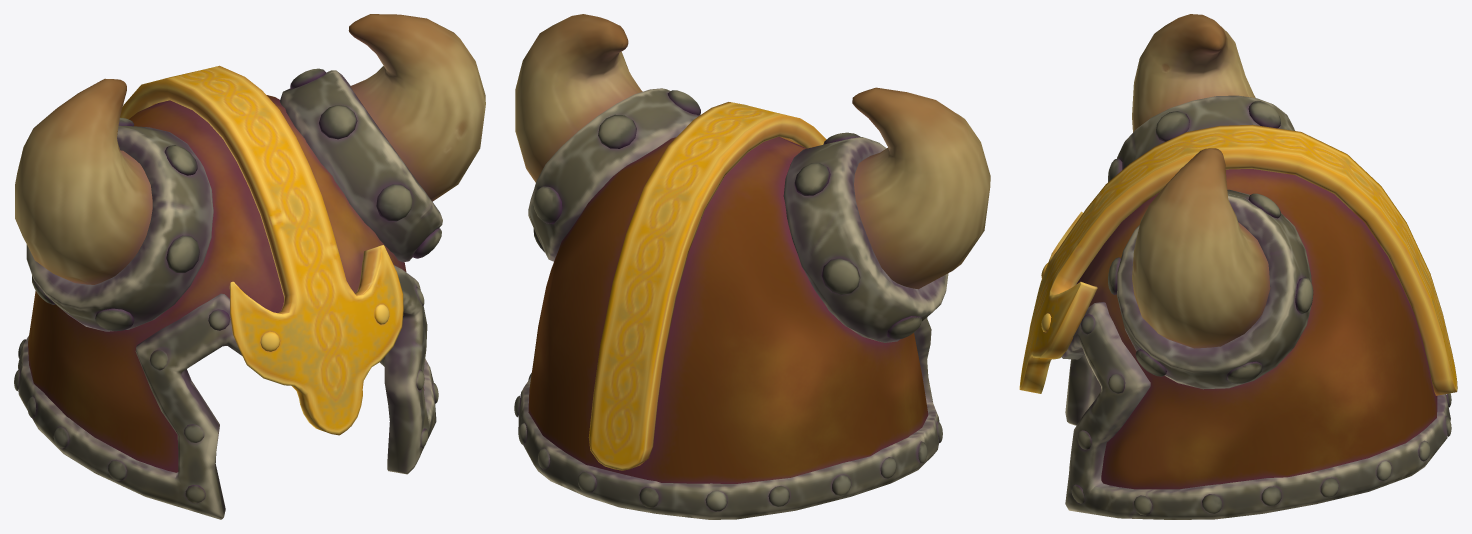
Rendered from VikingHat.fbx.
3 views of the same model, side by side, from view 1: azimuth 30°, elevation 25°; view 2: azimuth 150°, elevation 25°; view 3: azimuth 270°, elevation 25° (orthographic). The views are drawn at different scales.
Visible parts, largest first — view 1: rogi_low, obrub_zlatni_low, helmet_low, rogi_rings_low, helmet obrub_low, rogi_buttons_low, gumbi helmet_low, buttons_zlatan_low; view 2: helmet_low, rogi_low, obrub_zlatni_low, rogi_rings_low, helmet obrub_low, rogi_buttons_low, gumbi helmet_low; view 3: helmet_low, rogi_low, obrub_zlatni_low, helmet obrub_low, rogi_rings_low, rogi_buttons_low, gumbi helmet_low.
Boxes of the visible parts, x1,y1,x2,y2 form: rogi_low: (15, 14, 485, 284); obrub_zlatni_low: (120, 65, 403, 435); helmet_low: (28, 95, 424, 472); rogi_rings_low: (26, 70, 442, 331); helmet obrub_low: (18, 265, 436, 519); rogi_buttons_low: (32, 68, 441, 331); gumbi helmet_low: (14, 286, 438, 503); buttons_zlatan_low: (260, 304, 389, 351); helmet_low: (528, 136, 928, 483); rogi_low: (515, 14, 990, 289); obrub_zlatni_low: (588, 102, 826, 470); rogi_rings_low: (528, 88, 948, 342); helmet obrub_low: (518, 317, 939, 519); rogi_buttons_low: (533, 90, 921, 339); gumbi helmet_low: (514, 373, 942, 511); helmet_low: (1077, 169, 1437, 489); rogi_low: (1132, 14, 1270, 348); obrub_zlatni_low: (1019, 124, 1457, 395); helmet obrub_low: (1061, 284, 1450, 519); rogi_rings_low: (1117, 95, 1311, 389); rogi_buttons_low: (1108, 101, 1313, 383); gumbi helmet_low: (1071, 314, 1451, 515).
Bounding box in the file's own units: 83.66 × 69.54 × 72.7.
Materials: 1 (1 with a texture image).
